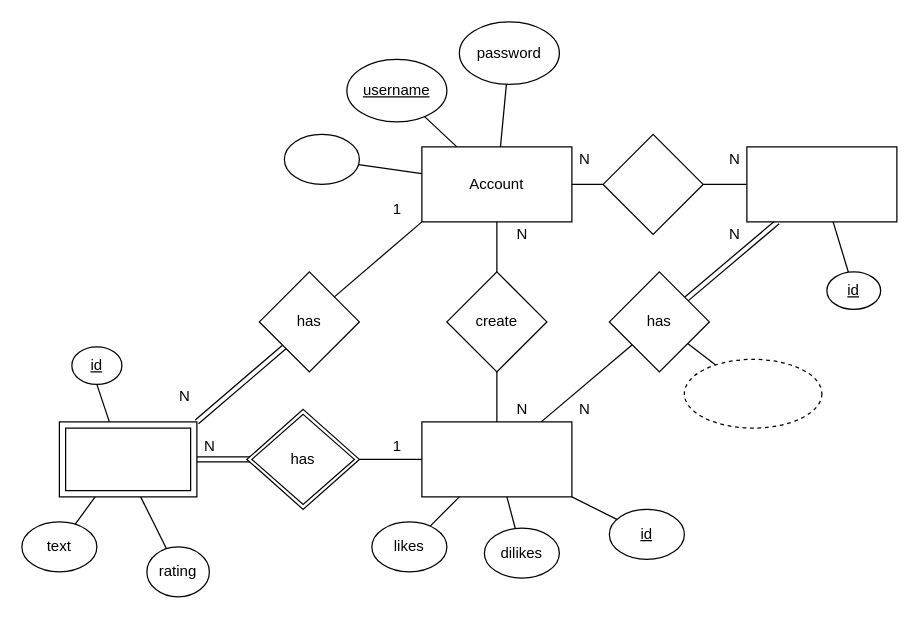
The diagram is 919 pixels wide and 619 high, and some of its shapes have lost their labels. The shapes that lost their labels are listed below. From the top down, each one's box as (x1, y1, x2, y2) in pixels, then its label:
(283, 133, 359, 184): email
(602, 133, 703, 234): creates
(746, 146, 897, 222): Tag
(683, 358, 822, 428): nr of names with tag
(58, 421, 197, 497): Comment
(421, 421, 572, 497): Name
